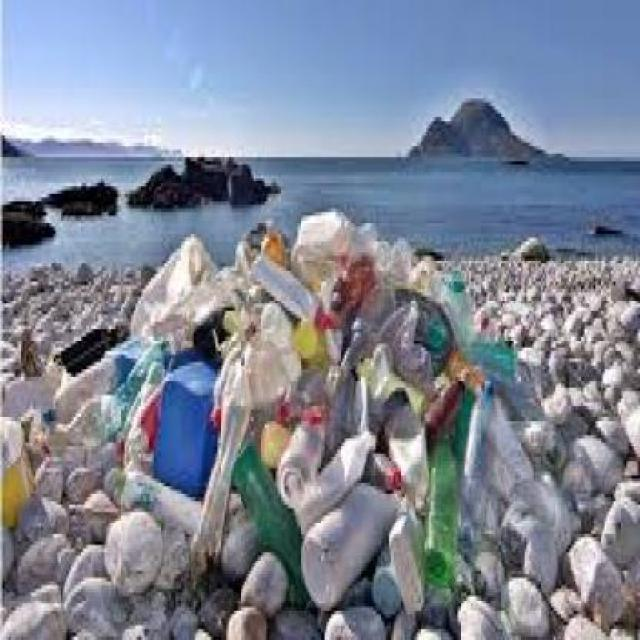garbage: (114, 228, 518, 579)
